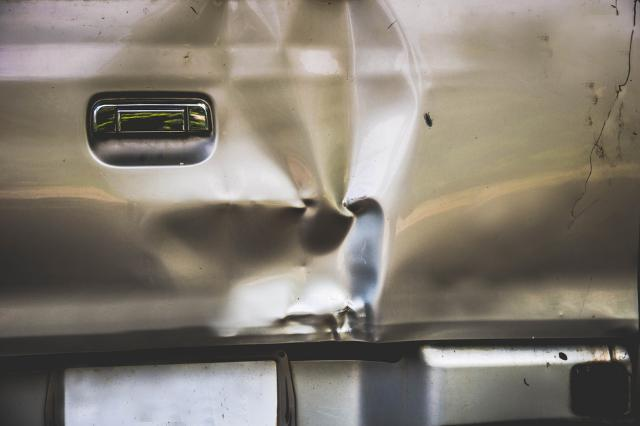crack: (571, 0, 639, 221)
dent: (95, 0, 423, 346)
